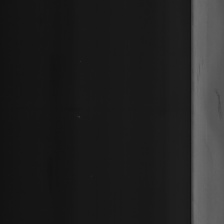water_spot: (211, 79, 224, 123)
